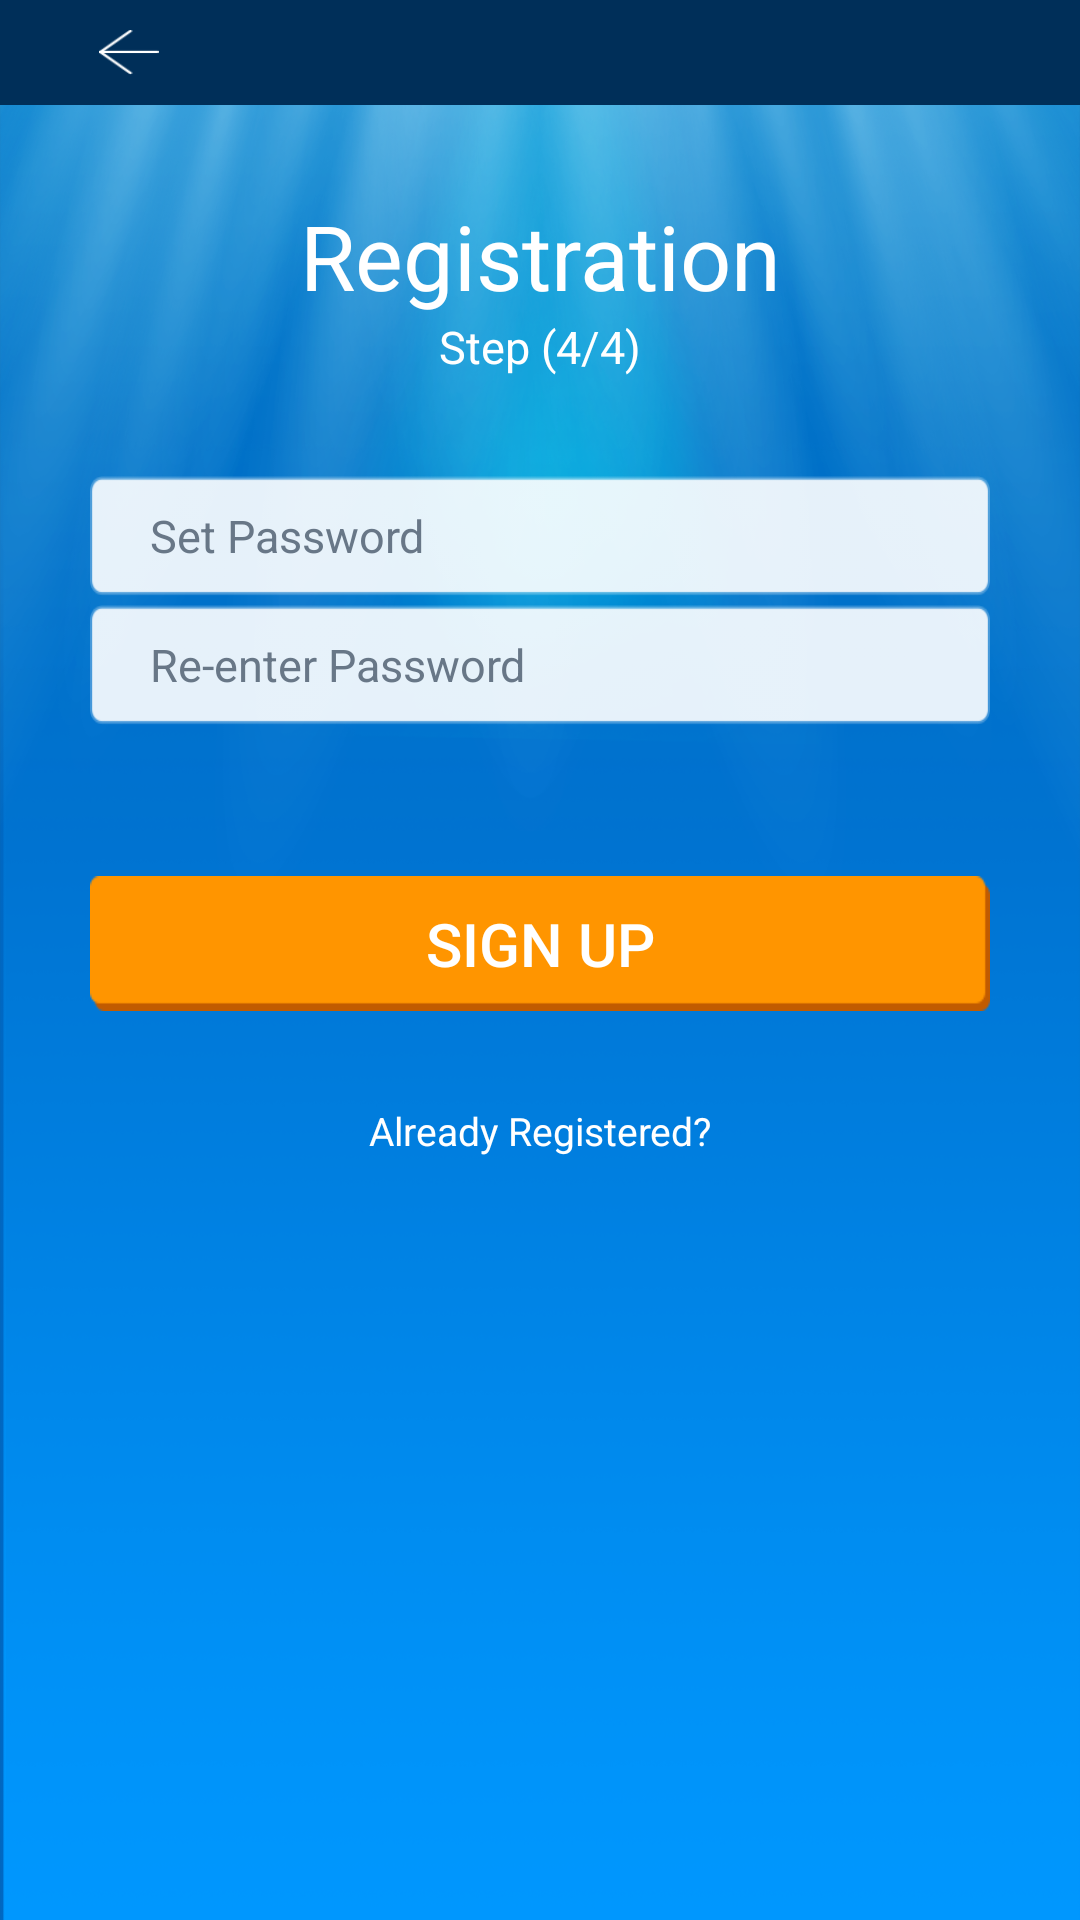

Where icons sit on this 1080 × 1920 app screen, as (x1, y1, x2, y2):
left arrow: (99, 30, 159, 74)
